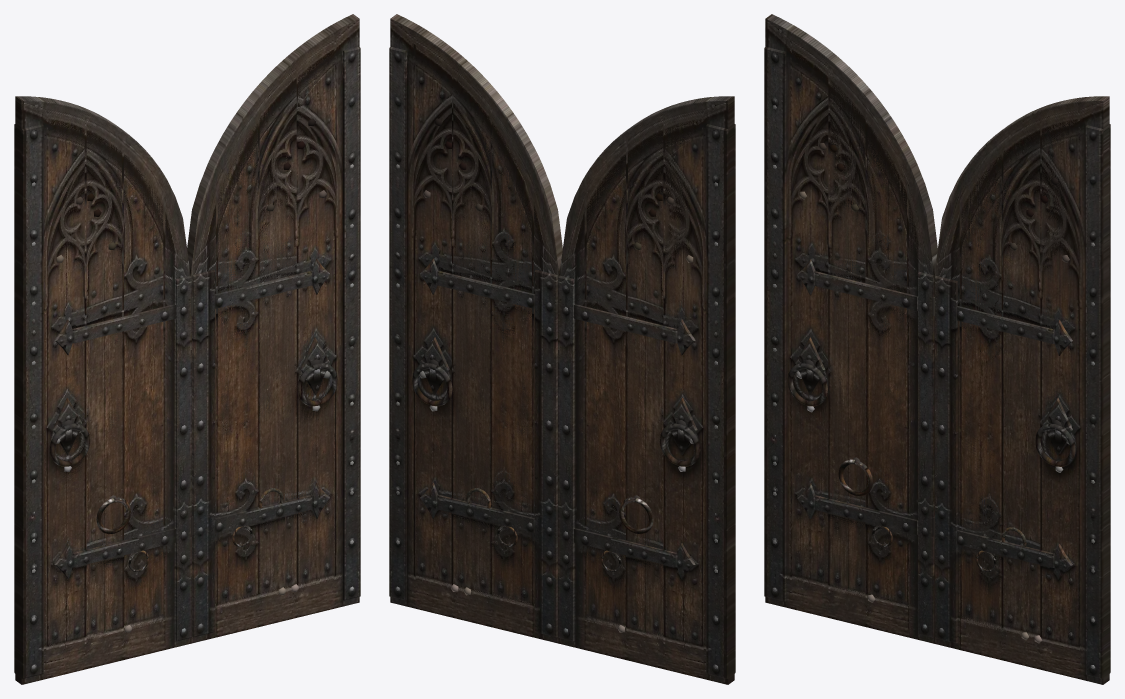
The model's file is doors.glb.
3 renders of one model, left to right at view 1: azimuth 30°, elevation 25°; view 2: azimuth 150°, elevation 25°; view 3: azimuth 330°, elevation 25°, orthographic.
Parts seen in each view (by area): view 1: door_great_r, door_great_l, door_great_l_far, door_great_r_far, door_iron_r; view 2: door_great_l, door_great_r, door_great_l_far, door_great_r_far, door_iron_r; view 3: door_great_l, door_great_r, door_great_r_far, door_great_l_far, door_iron_r.
Boxes of the visible parts, left/top/right/bottom form: door_great_r: left=14, top=96, right=191, bottom=684; door_great_l: left=187, top=14, right=360, bottom=643; door_great_l_far: left=191, top=19, right=359, bottom=643; door_great_r_far: left=21, top=101, right=189, bottom=684; door_iron_r: left=96, top=495, right=130, bottom=534; door_great_l: left=389, top=14, right=562, bottom=643; door_great_r: left=558, top=96, right=735, bottom=684; door_great_l_far: left=390, top=19, right=558, bottom=643; door_great_r_far: left=560, top=101, right=728, bottom=684; door_iron_r: left=619, top=495, right=653, bottom=534; door_great_l: left=932, top=96, right=1110, bottom=684; door_great_r: left=764, top=14, right=937, bottom=643; door_great_r_far: left=765, top=19, right=933, bottom=642; door_great_l_far: left=934, top=101, right=1103, bottom=683; door_iron_r: left=838, top=457, right=872, bottom=496.
Size of the model in its own units: 4.6 by 7.6 by 0.3491.
1 material, 1 textured.
